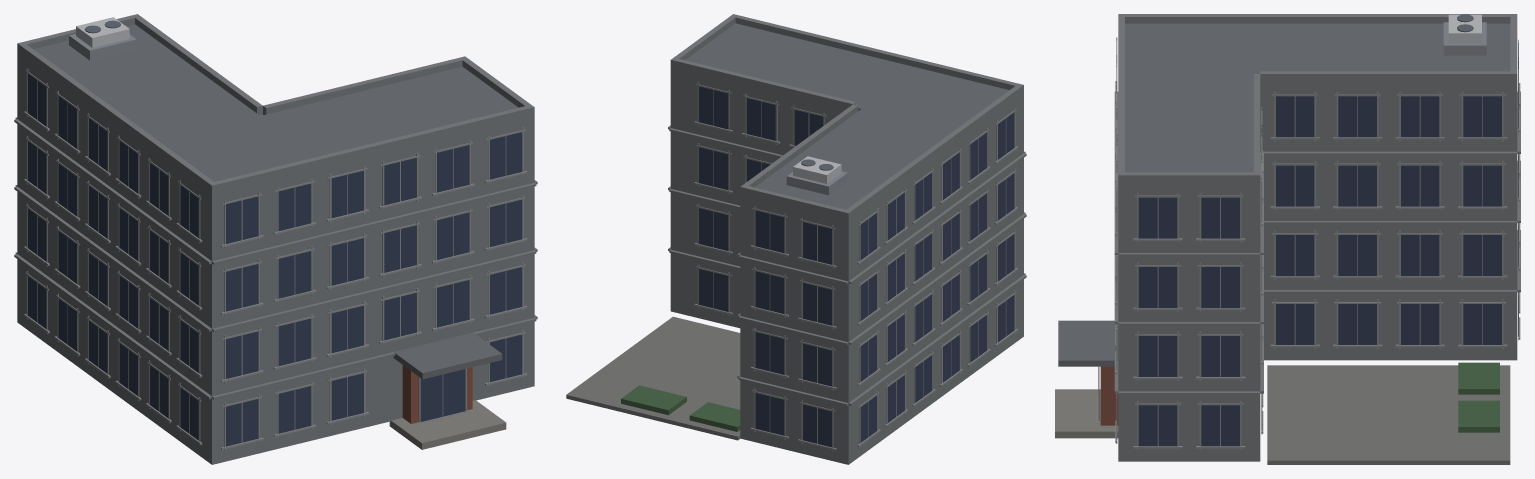
The model's file is civic_corner_06x04_lvl1.glb.
The picture shows the model from 3 angles, left to right: view 1: azimuth 30°, elevation 25°; view 2: azimuth 150°, elevation 25°; view 3: azimuth 270°, elevation 25°; orthographic projection. The views are drawn at different scales.
Visible parts, largest first — view 1: civic_corner_06x04; view 2: civic_corner_06x04; view 3: civic_corner_06x04.
Boxes of the visible parts, box(x1,y1,x2,y2) form: civic_corner_06x04: box(14, 14, 537, 464); civic_corner_06x04: box(566, 14, 1026, 464); civic_corner_06x04: box(1055, 14, 1520, 464).
Size of the model in its own units: 0.835 by 0.743 by 1.
